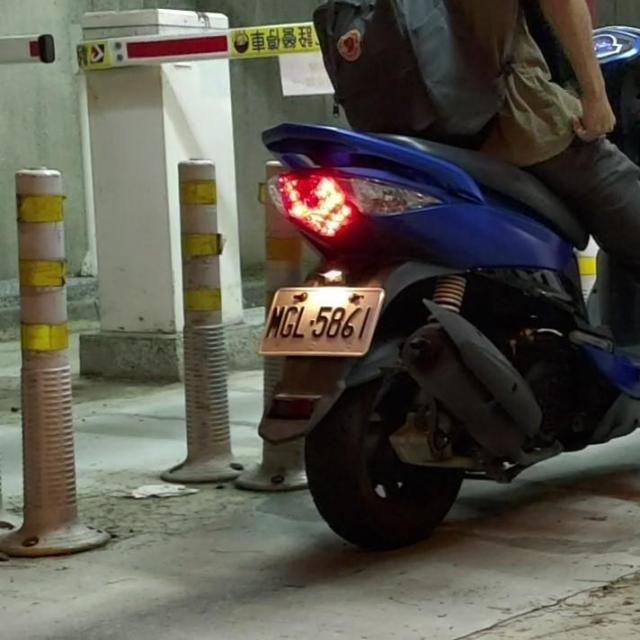W: (257, 273, 387, 363)
